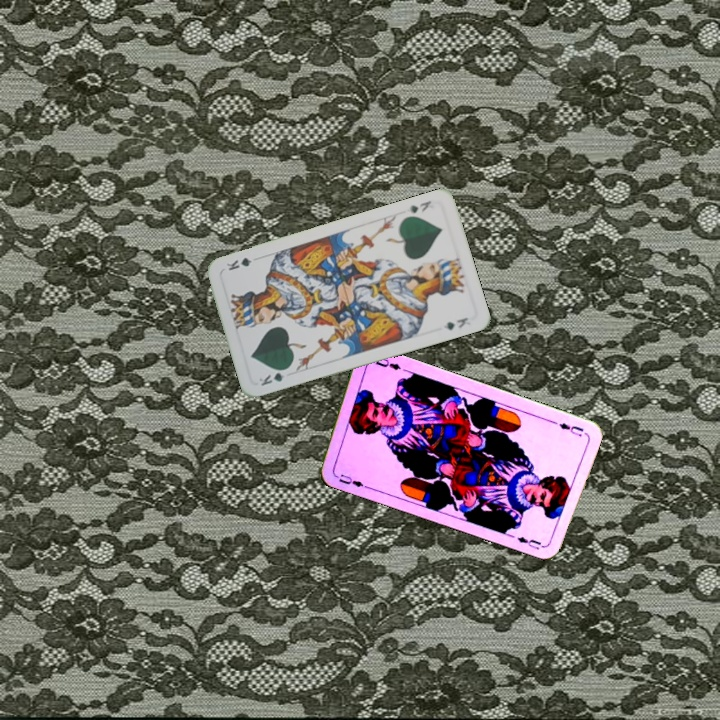EU: (330, 470, 369, 490), (555, 419, 587, 439)
GK: (255, 364, 292, 389), (405, 197, 434, 216)
